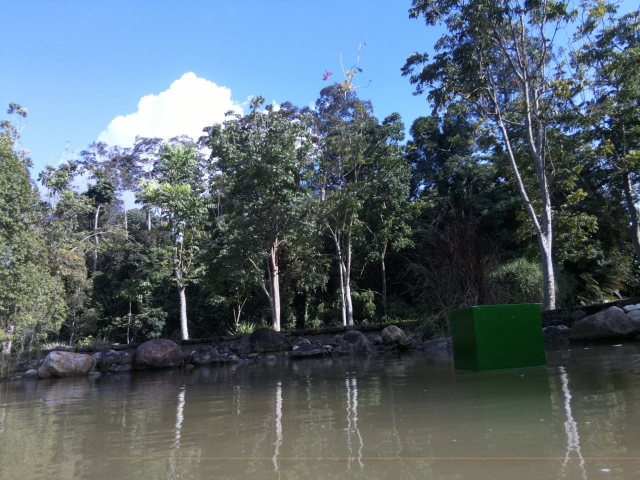obstacle: (447, 303, 549, 374)
